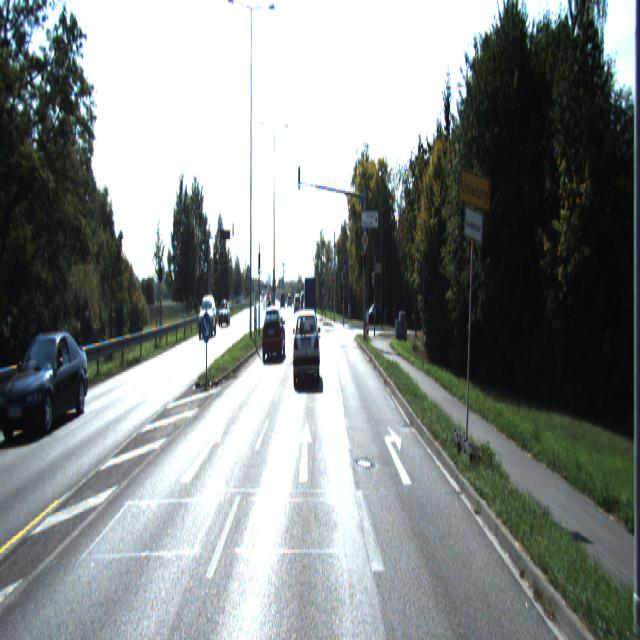Car: (2, 331, 91, 439), (293, 313, 321, 387), (262, 305, 286, 362), (303, 275, 317, 333), (198, 297, 217, 338), (219, 300, 230, 326)
